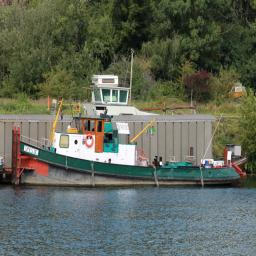tugboat: (12, 99, 249, 194)
